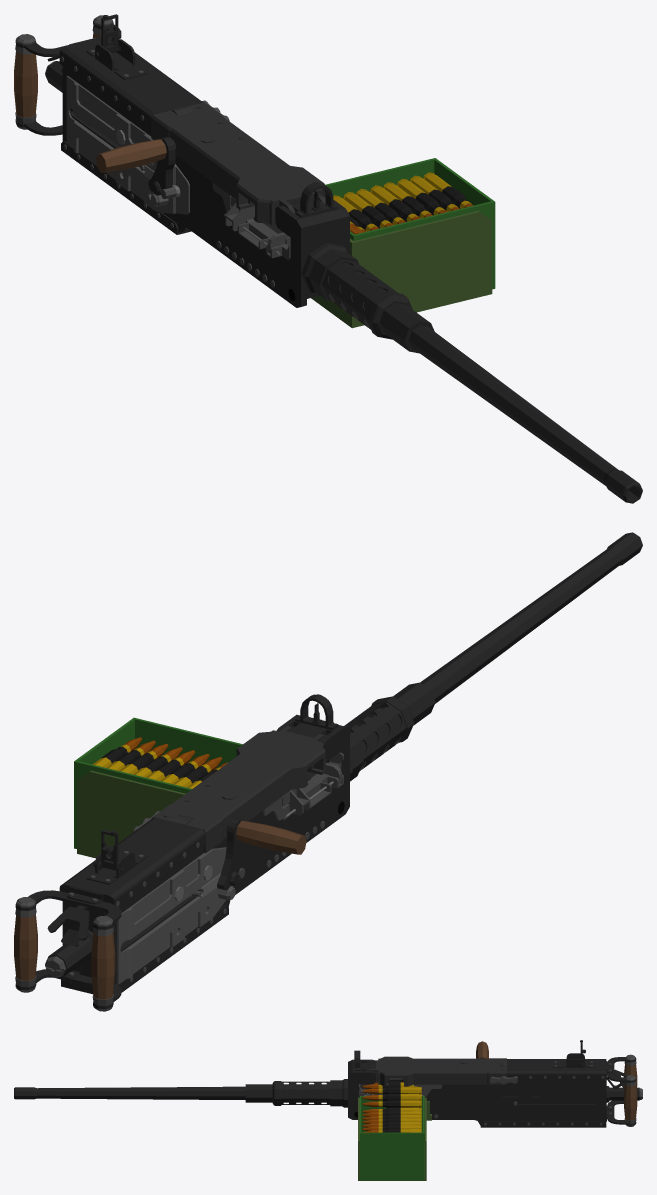
The picture shows the model from 3 angles, top to bottom: view 1: azimuth 30°, elevation 25°; view 2: azimuth 150°, elevation 25°; view 3: azimuth 270°, elevation 25°; orthographic projection. The views are drawn at different scales.
Visible parts, largest first — view 1: M2 Browning 2, M2 Browning 2 Ammo Base 1, M2 Browning 2 Top Cover 1, M2 Browning 2 Barrel 1, M2 Browning 2 Ammo Box 1, M2 Browning 2 Charging Handle 1; view 2: M2 Browning 2, M2 Browning 2 Top Cover 1, M2 Browning 2 Barrel 1, M2 Browning 2 Ammo Base 1, M2 Browning 2 Ammo Box 1, M2 Browning 2 Charging Handle 1, M2 Browning 2 Trigger 1; view 3: M2 Browning 2, M2 Browning 2 Ammo Box 1, M2 Browning 2 Barrel 1, M2 Browning 2 Top Cover 1, M2 Browning 2 Ammo Base 1.
Part boxes in pixels (x1,y1,x2,y2): M2 Browning 2: (14,15,412,339); M2 Browning 2 Ammo Base 1: (311,211,492,328); M2 Browning 2 Top Cover 1: (151,102,325,225); M2 Browning 2 Barrel 1: (328,262,642,503); M2 Browning 2 Ammo Box 1: (325,158,495,289); M2 Browning 2 Charging Handle 1: (96,136,176,195); M2 Browning 2: (14,694,413,1011); M2 Browning 2 Top Cover 1: (151,726,326,853); M2 Browning 2 Barrel 1: (350,532,642,751); M2 Browning 2 Ammo Base 1: (77,770,185,858); M2 Browning 2 Ammo Box 1: (74,717,242,848); M2 Browning 2 Charging Handle 1: (217,818,306,890); M2 Browning 2 Trigger 1: (47,905,89,940); M2 Browning 2: (272,1050,642,1127); M2 Browning 2 Ammo Box 1: (359,1096,424,1180); M2 Browning 2 Barrel 1: (14,1084,327,1102); M2 Browning 2 Top Cover 1: (366,1056,506,1086); M2 Browning 2 Ammo Base 1: (358,1097,431,1180).
Bounding box in the file's own units: 0.5449 × 0.3167 × 1.95.
